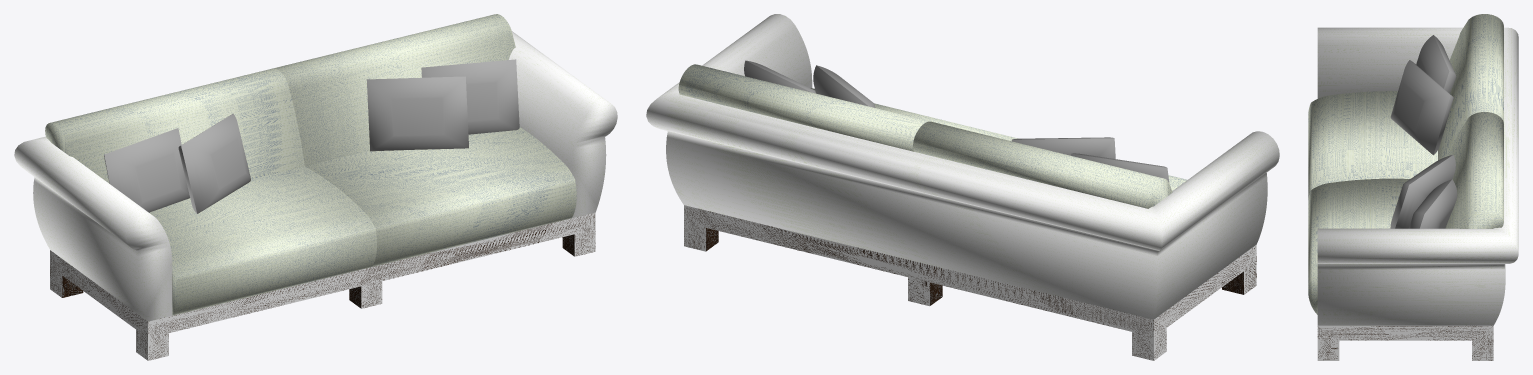
3 renders of one model, left to right at view 1: azimuth 30°, elevation 25°; view 2: azimuth 150°, elevation 25°; view 3: azimuth 270°, elevation 25°, orthographic. The views are drawn at different scales.
Visible parts, largest first — view 1: Component_6 (×2), Component_5, Component_4, _16in_x_16in_Pillow (×4), Component_8, Component_7; view 2: Component_6 (×2), Component_8, Component_7, _16in_x_16in_Pillow (×4), Component_5; view 3: Component_6 (×2), Component_4, _16in_x_16in_Pillow (×4), Component_7, Component_8, Component_5.
Part boxes in pixels (x1=…): Component_6 (×2): x1=14, y1=31, x2=617, y2=360; Component_5: x1=305, y1=127, x2=576, y2=266; Component_4: x1=149, y1=166, x2=376, y2=315; _16in_x_16in_Pillow (×4): x1=104, y1=59, x2=519, y2=213; Component_8: x1=45, y1=68, x2=304, y2=183; Component_7: x1=273, y1=14, x2=515, y2=166; Component_6 (×2): x1=646, y1=14, x2=1279, y2=360; Component_8: x1=913, y1=121, x2=1172, y2=208; Component_7: x1=678, y1=64, x2=929, y2=151; _16in_x_16in_Pillow (×4): x1=744, y1=60, x2=1169, y2=183; Component_5: x1=810, y1=88, x2=1017, y2=141; Component_6 (×2): x1=1317, y1=27, x2=1518, y2=360; Component_4: x1=1308, y1=91, x2=1437, y2=198; _16in_x_16in_Pillow (×4): x1=1390, y1=35, x2=1457, y2=228; Component_7: x1=1445, y1=112, x2=1503, y2=228; Component_8: x1=1438, y1=14, x2=1503, y2=160; Component_5: x1=1308, y1=178, x2=1409, y2=314.
Bounding box in the file's own units: 93.6 × 38.62 × 30.52.
6 materials, 2 textured.
